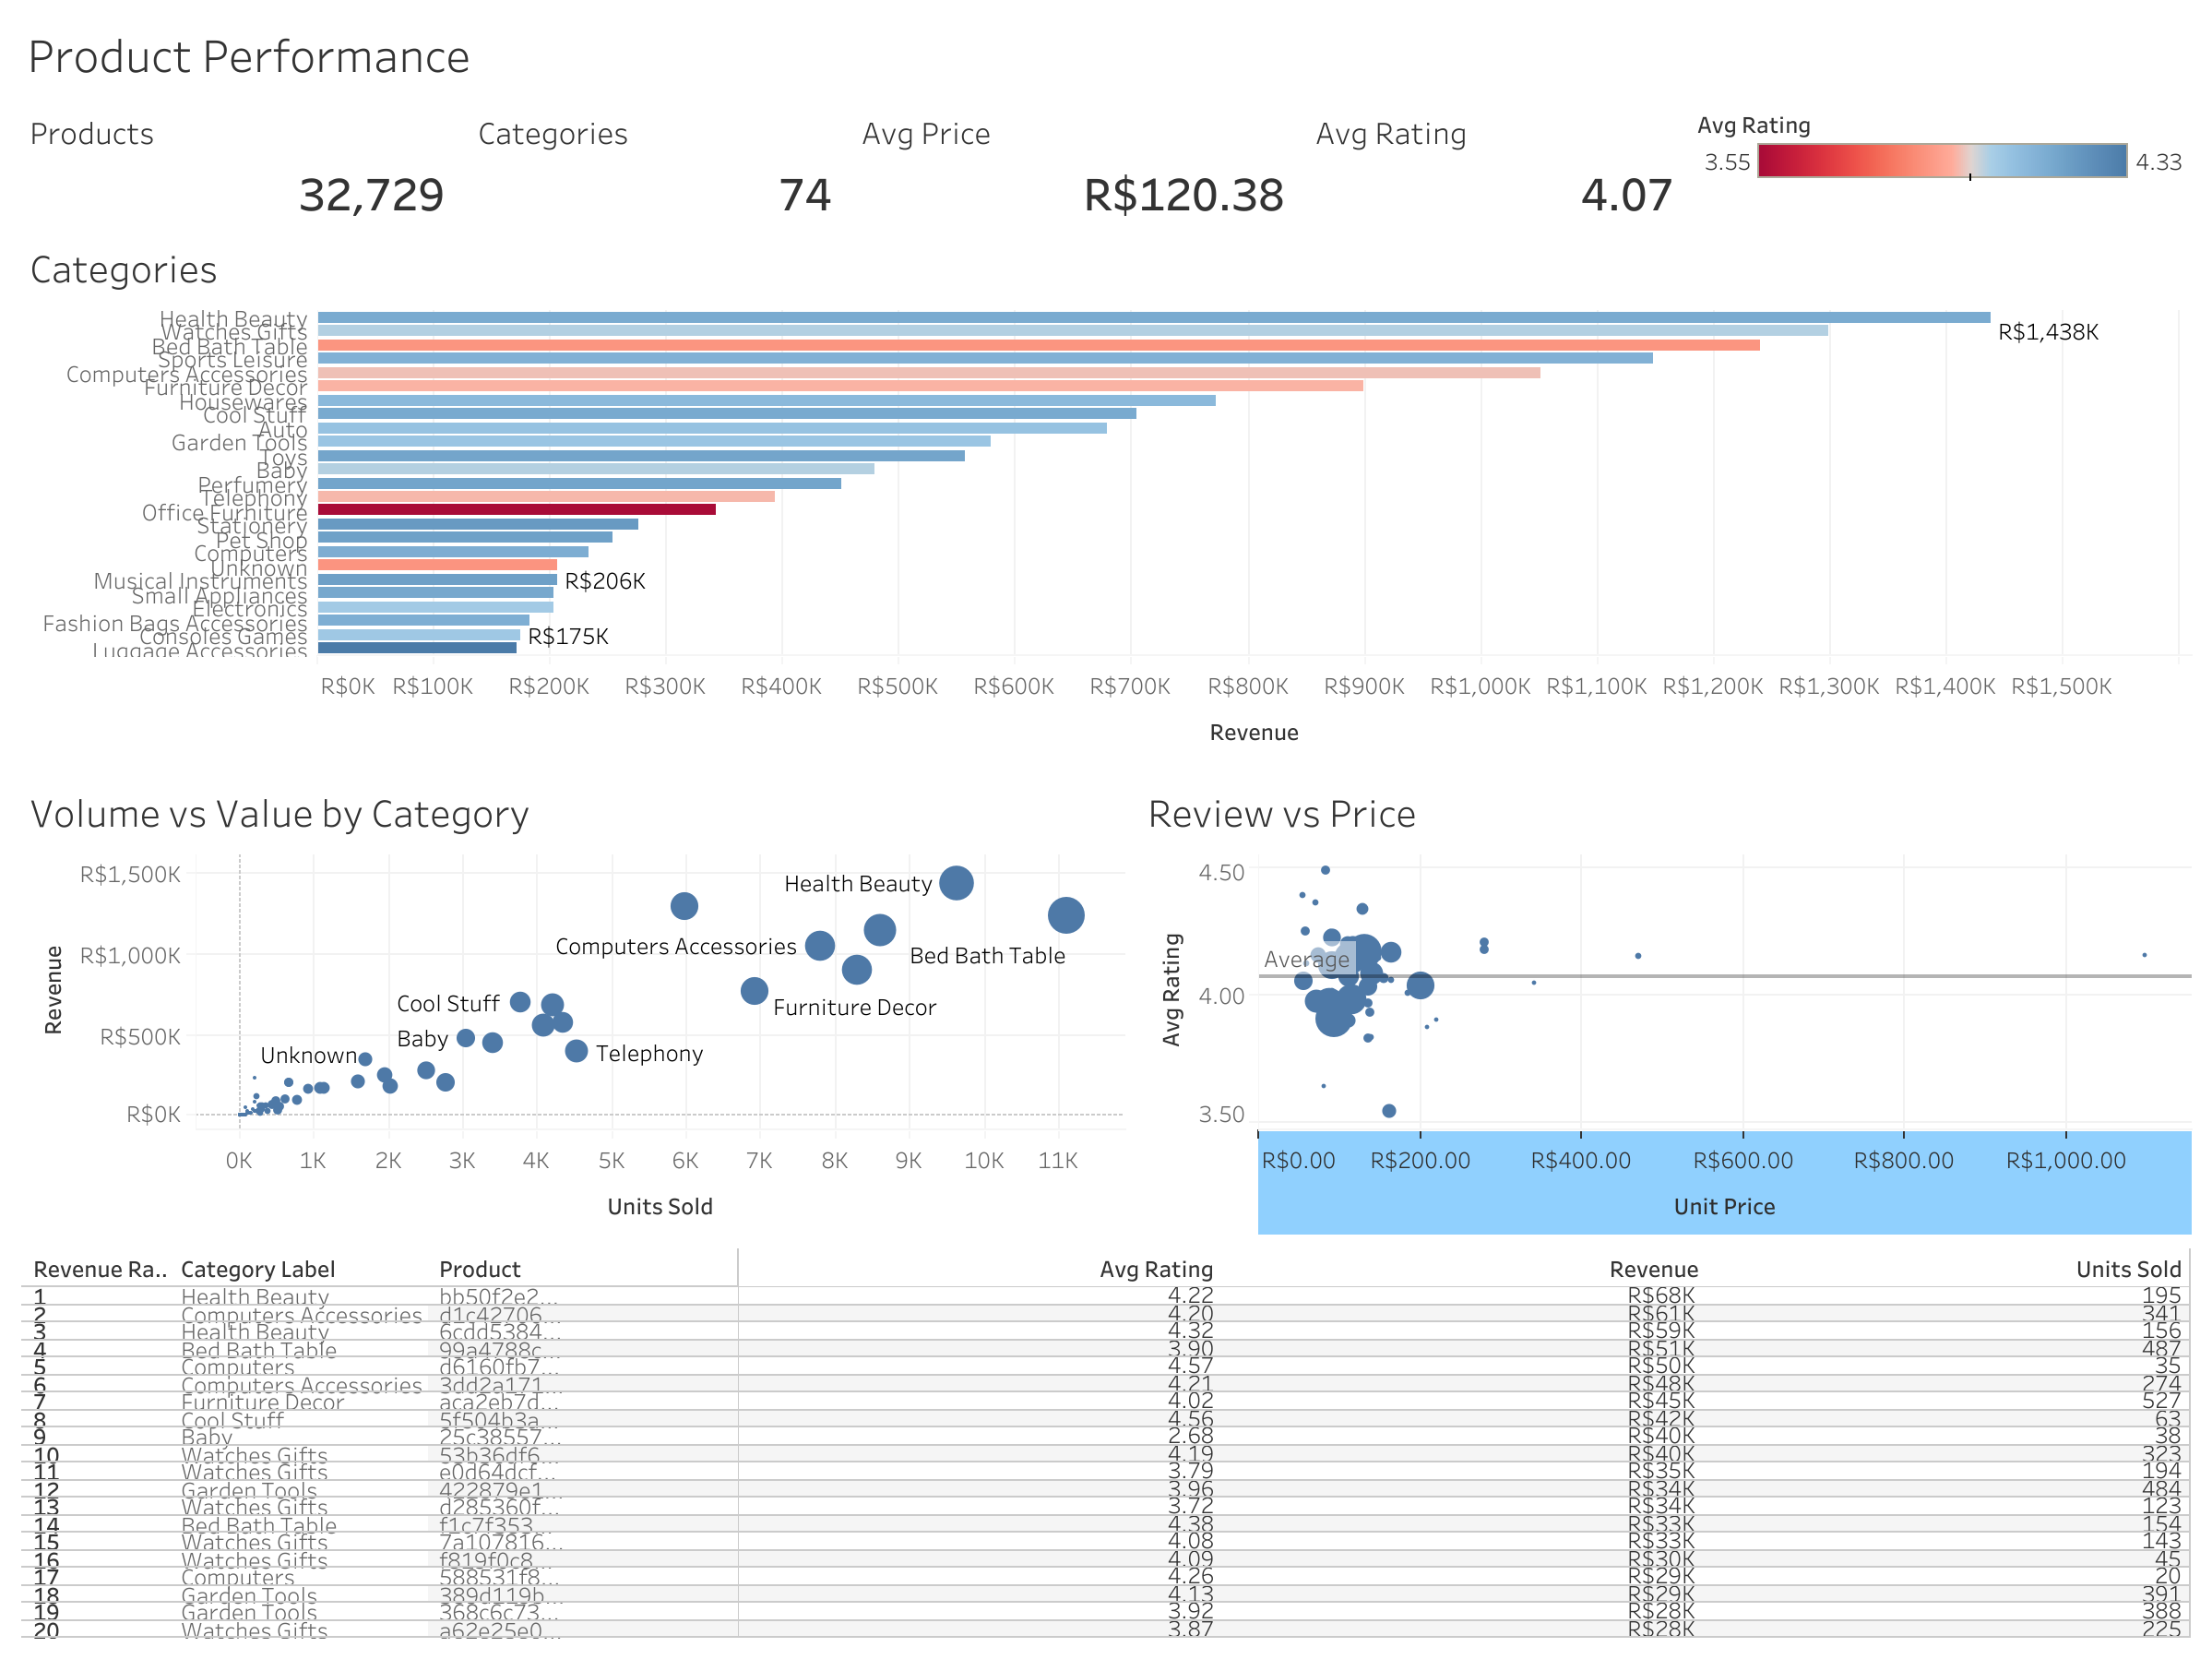

This screenshot's page, from the dashboard's own definition file:
{"tool":"tableau","page":{"name":"Product Performance","canvas":[1200,900],"ordinal":1},"visuals":[{"type":"title","box":[8,8,1184,42]},{"type":"worksheet","title":"KPI Products","mark":"Automatic","box":[8,50,243,71.2]},{"type":"worksheet","title":"KPI category","mark":"Automatic","box":[251,50,208,71.2]},{"type":"worksheet","title":"KPI Price","mark":"Automatic","box":[459,50,246,71.2]},{"type":"worksheet","title":"KPI Rating","mark":"Automatic","box":[705,50,211,71.2]},{"type":"legend","title":"Top Categories","param":"[federated.0kfole71cg7ohe165dw890w9zlwz].[usr:Calculation_3524828729126922:qk]","box":[916,50,276,71.2]},{"type":"worksheet","title":"Top Categories","mark":"Automatic","rows":["CATEGORY_LABEL"],"cols":["REVENUE"],"box":[8,121.2,1184,294.4]},{"type":"worksheet","title":"Units vs Revenue","mark":"Circle","rows":["REVENUE"],"cols":["UNITS_SOLD"],"box":[8,415.6,605.9,257.4]},{"type":"worksheet","title":"Review vs Price","mark":"Circle","rows":["Calculation_3524828729126922"],"cols":["Calculation_3524828728107017"],"box":[613.9,415.6,578.1,257.4]},{"type":"worksheet","title":"Top Products","mark":"Automatic","rows":["REVENUE_RANK","CATEGORY_LABEL","Calculation_3524828740366348"],"box":[8,673,1184,219]}]}

Visuals, with their boxes in screenshot pixels (x1, y1, x2, y2), scaled from the page's 1200x900 canvas onto the 2212x1659 screenshot:
title: left=15, top=15, right=2197, bottom=92
"KPI Products" worksheet: left=15, top=92, right=463, bottom=223
"KPI category" worksheet: left=463, top=92, right=846, bottom=223
"KPI Price" worksheet: left=846, top=92, right=1300, bottom=223
"KPI Rating" worksheet: left=1300, top=92, right=1688, bottom=223
"Top Categories" legend: left=1688, top=92, right=2197, bottom=223
"Top Categories" worksheet: left=15, top=223, right=2197, bottom=766
"Units vs Revenue" worksheet (Circle marks): left=15, top=766, right=1132, bottom=1241
"Review vs Price" worksheet (Circle marks): left=1132, top=766, right=2197, bottom=1241
"Top Products" worksheet: left=15, top=1241, right=2197, bottom=1644
